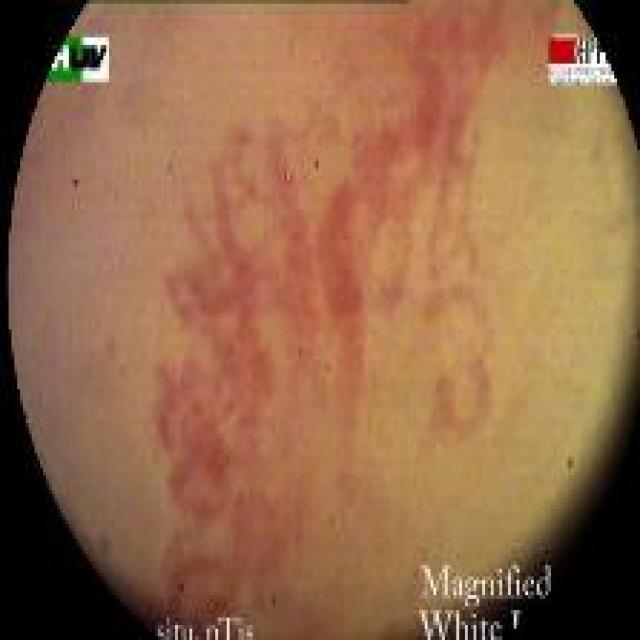blur: (152, 8, 524, 576)
color misalignment: (416, 557, 562, 636), (544, 24, 621, 95), (41, 24, 115, 95), (155, 604, 259, 636), (90, 515, 116, 558), (558, 444, 585, 482), (66, 164, 90, 203), (169, 564, 192, 604), (264, 585, 289, 620), (159, 143, 178, 186), (292, 334, 313, 367), (102, 325, 121, 360), (280, 163, 302, 193), (116, 356, 133, 387), (321, 352, 339, 381), (312, 143, 326, 175)
